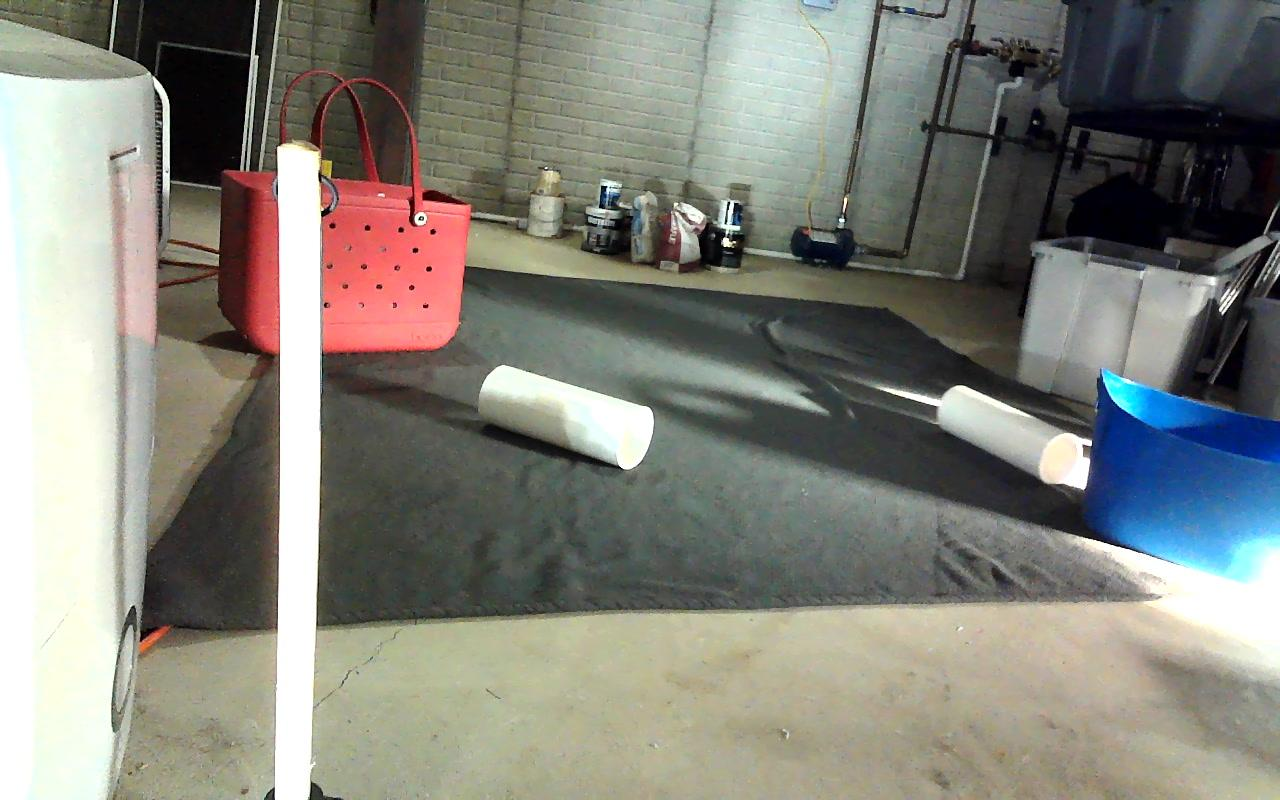coral: (480, 364, 655, 469), (935, 384, 1084, 485)
